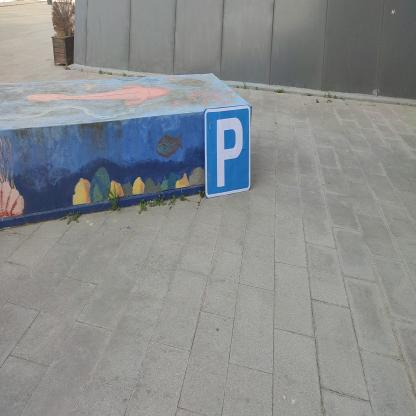Parking-Sign: (204, 105, 253, 198)
